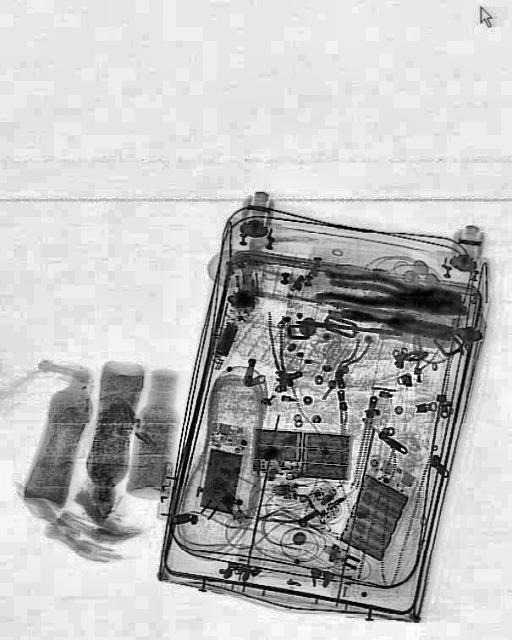Pliers: (315, 261, 465, 327)
